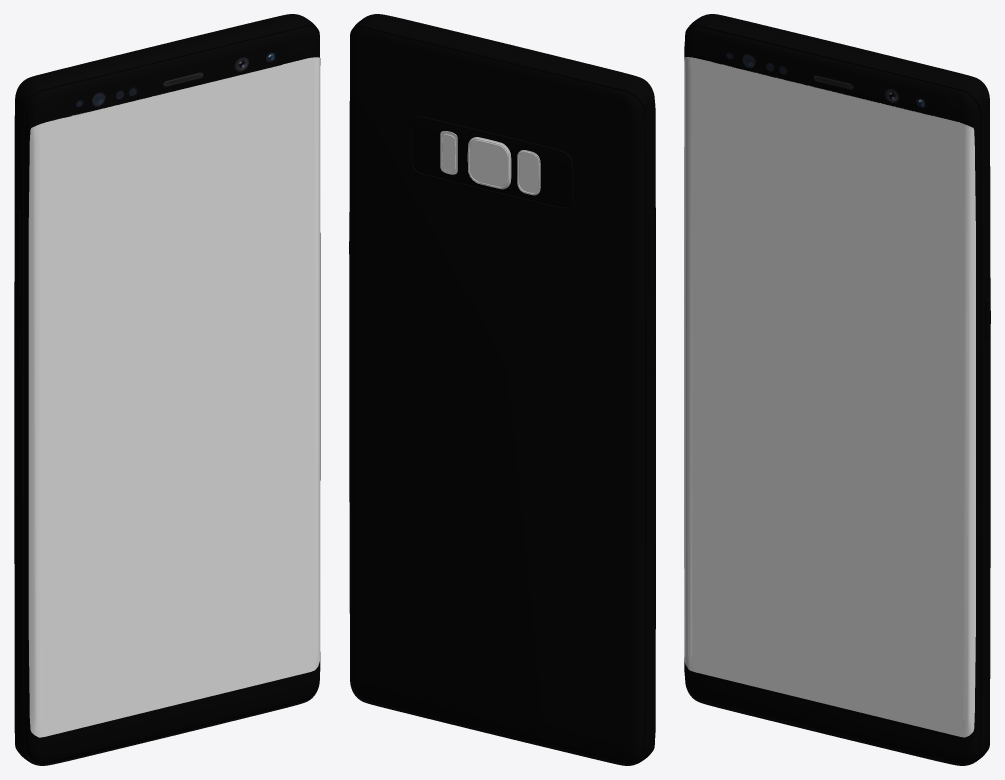
File: phone.glb
The picture shows the model from 3 angles, left to right: view 1: azimuth 30°, elevation 25°; view 2: azimuth 150°, elevation 25°; view 3: azimuth 330°, elevation 25°; orthographic projection.
Parts seen in each view (by area): view 1: body, shell; view 2: body, shell, Plane.002, CameraBackClass.002; view 3: body, shell.
Boxes of the visible parts, box(x1,y1,x2,y2) form: body: box(14, 26, 320, 764); shell: box(14, 14, 320, 765); body: box(350, 27, 655, 764); shell: box(349, 14, 655, 765); Plane.002: box(409, 116, 573, 210); CameraBackClass.002: box(440, 131, 540, 195); body: box(684, 26, 980, 764); shell: box(685, 14, 990, 765).
Size of the model in its own units: 0.0751 by 0.1633 by 0.00922.
5 materials, 1 textured.
